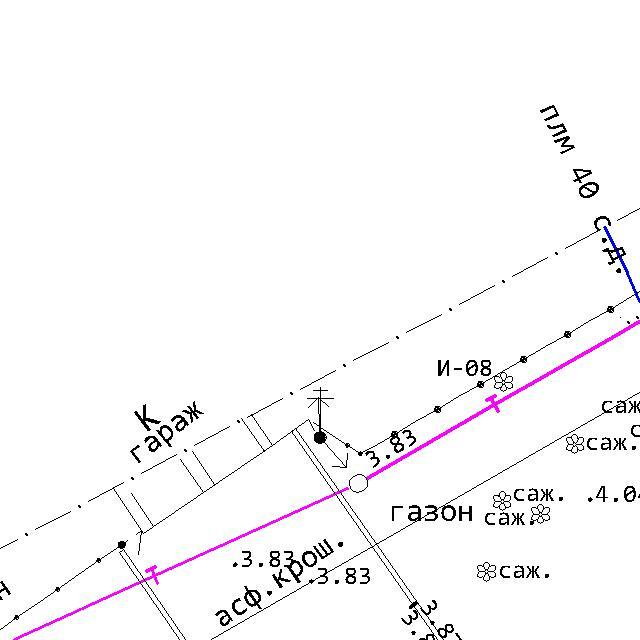bushes: (209, 575, 281, 636), (476, 560, 497, 582), (531, 503, 551, 525), (494, 371, 514, 393), (493, 489, 512, 512), (566, 433, 584, 455)
well: (346, 472, 371, 496)
